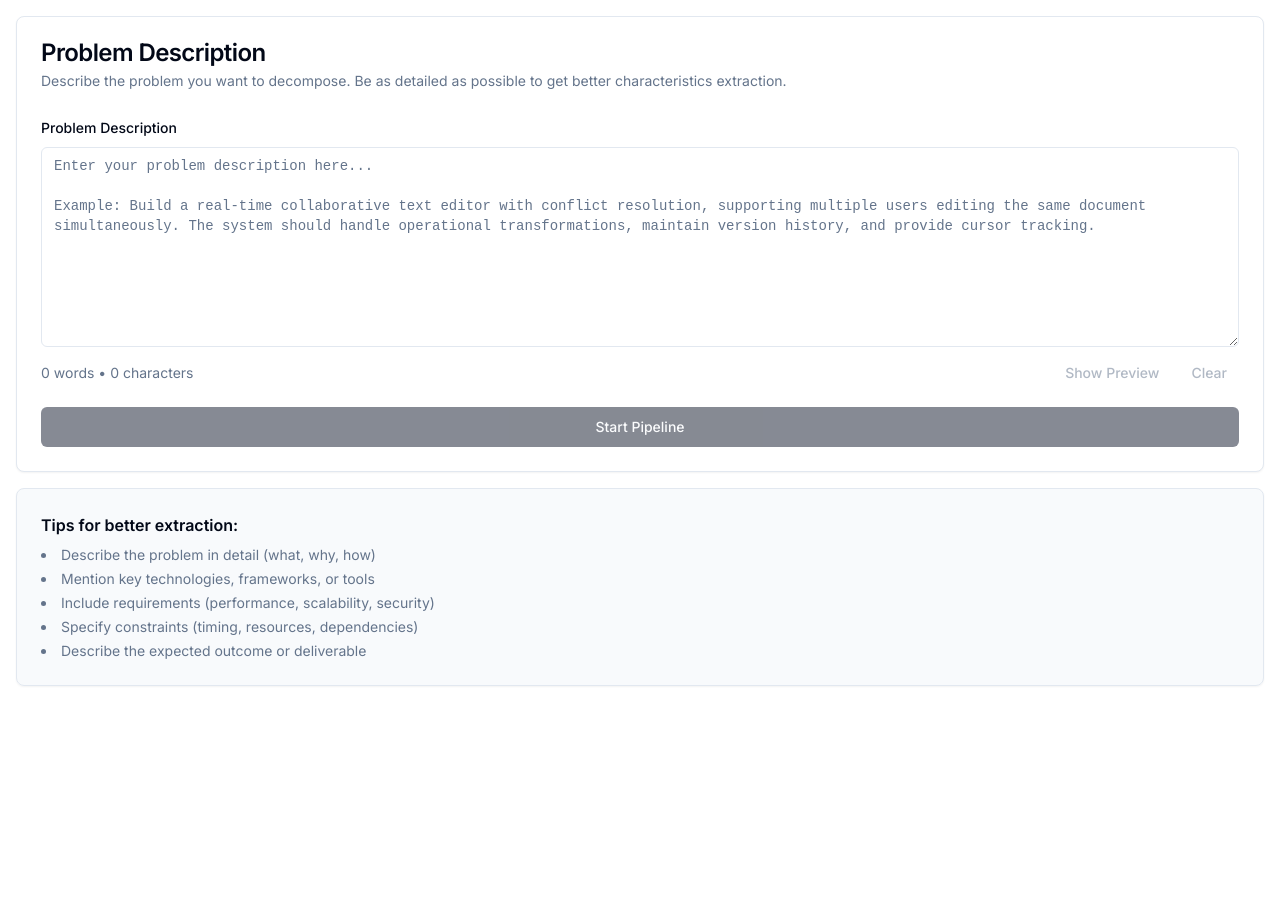
Test: ProblemInputDisplay › Preview Functionality › should show preview when button is clicked
Replace the text in the text box named "Problem description input" with "Test preview content" at [640, 247], box [41,147,1239,347]
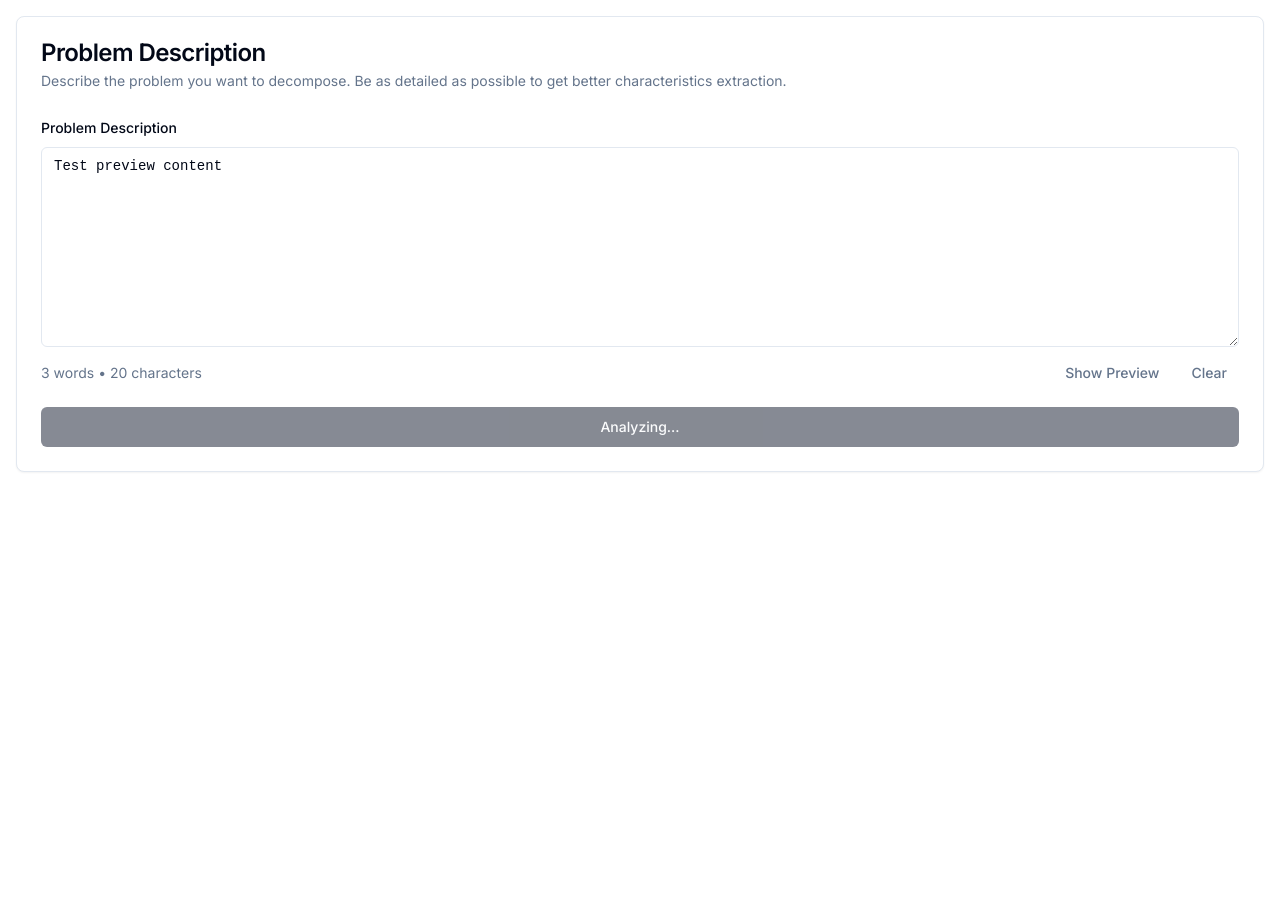
Click the button "Show Preview" at [1112, 373], box [1053,355,1172,391]
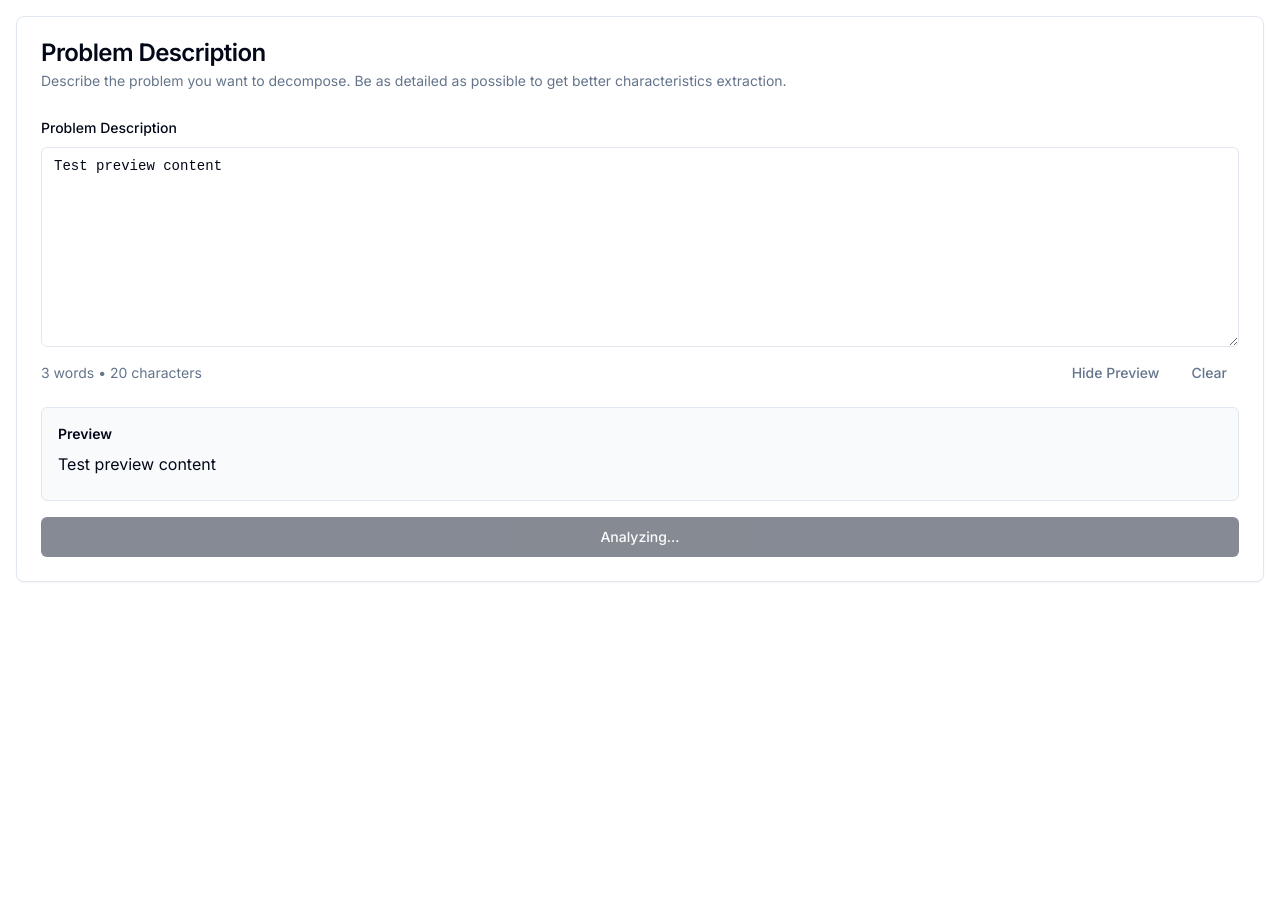
Expected: the heading "Preview" is shown, [58,425,112,442]
